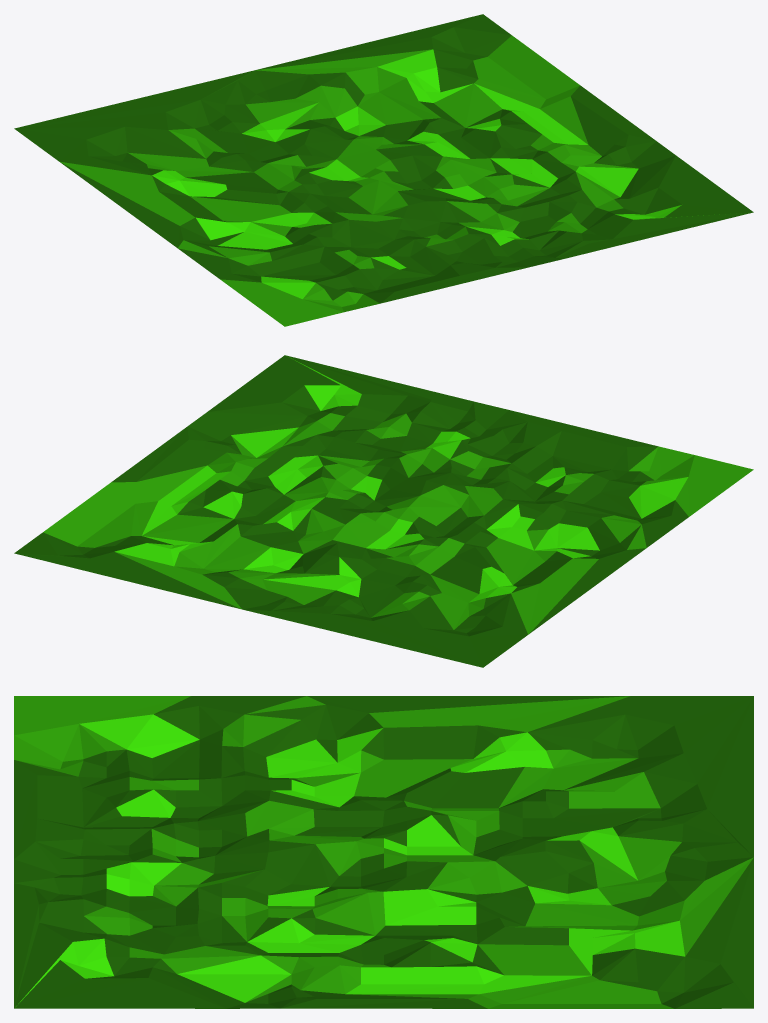
Rendered from Terrain02.obj.
The picture shows the model from 3 angles, top to bottom: view 1: azimuth 30°, elevation 25°; view 2: azimuth 150°, elevation 25°; view 3: azimuth 270°, elevation 25°; orthographic projection. The views are drawn at different scales.
Parts seen in each view (by area): view 1: Plane.002; view 2: Plane.002; view 3: Plane.002.
Boxes of the visible parts, x1=… form: Plane.002: x1=14, y1=14, x2=753, y2=326; Plane.002: x1=14, y1=355, x2=753, y2=667; Plane.002: x1=14, y1=696, x2=753, y2=1008.
Bounding box in the file's own units: 50 × 1.86 × 50.01.
